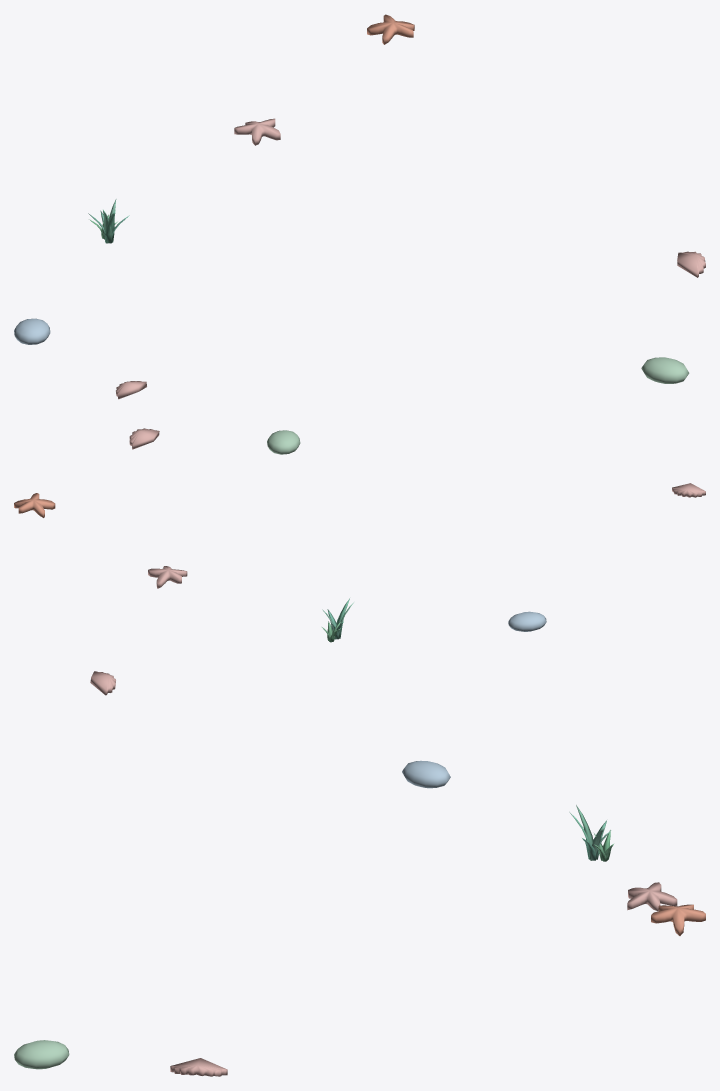
File: W2_FloraRing_11_7.fbx
3 views of the same model, one above another, from view 1: azimuth 30°, elevation 25°; view 2: azimuth 150°, elevation 25°; view 3: azimuth 270°, elevation 25° (orthographic). The views are drawn at different scales.
Parts seen in each view (by area): view 1: W2_FloraRing_11_7; view 2: W2_FloraRing_11_7; view 3: W2_FloraRing_11_7.
Boxes of the visible parts, left/top/right/bottom form: W2_FloraRing_11_7: left=14, top=14, right=705, bottom=399; W2_FloraRing_11_7: left=14, top=428, right=705, bottom=642; W2_FloraRing_11_7: left=14, top=671, right=705, bottom=1076.
Bounding box in the file's own units: 2.03 × 0.4515 × 1.72.
